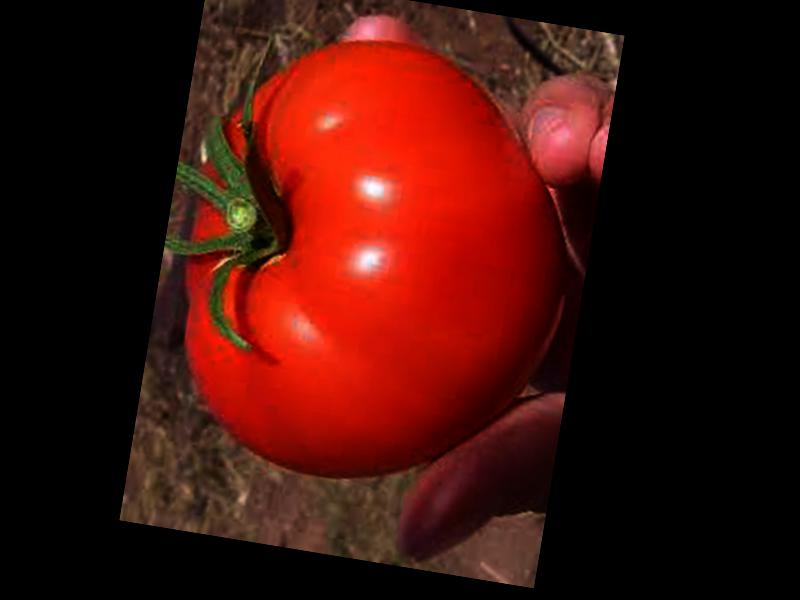Tomato: (158, 16, 596, 503)
